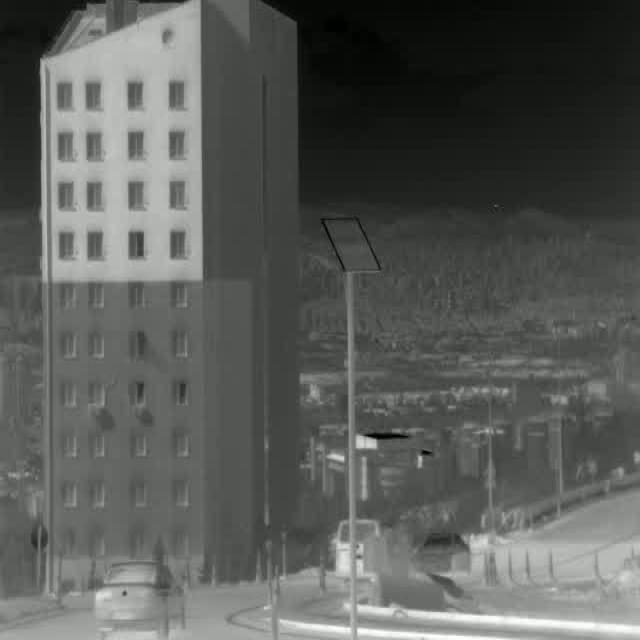Car: (95, 558, 186, 638), (334, 516, 394, 583), (410, 531, 475, 577)
